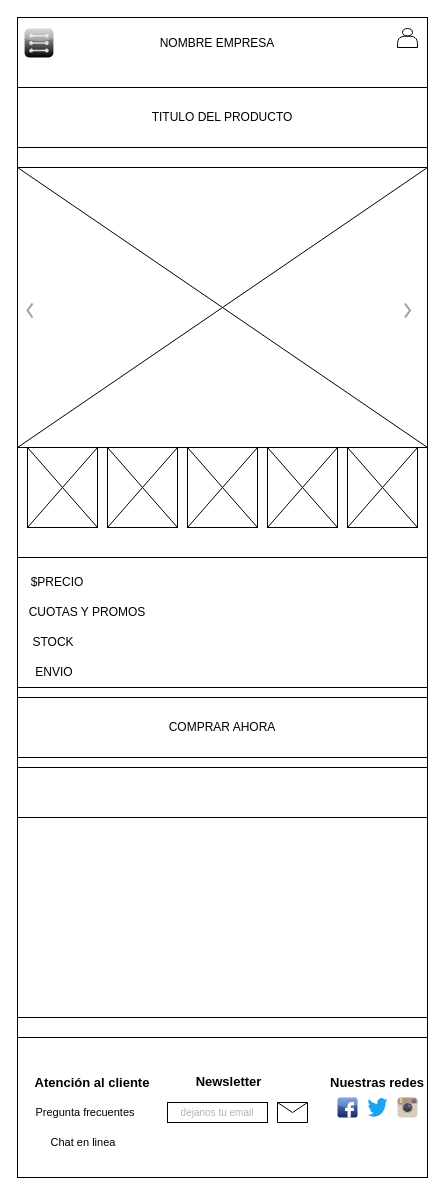
This 446x1195 diagram has some shape labels left out. Here are the shapes that lost their labels. From the top down, the centre of each, then its label:
At point 222,792: "DESCRIPCION DEL PRODUCTO".
At point 222,917: "caracteristicas".
